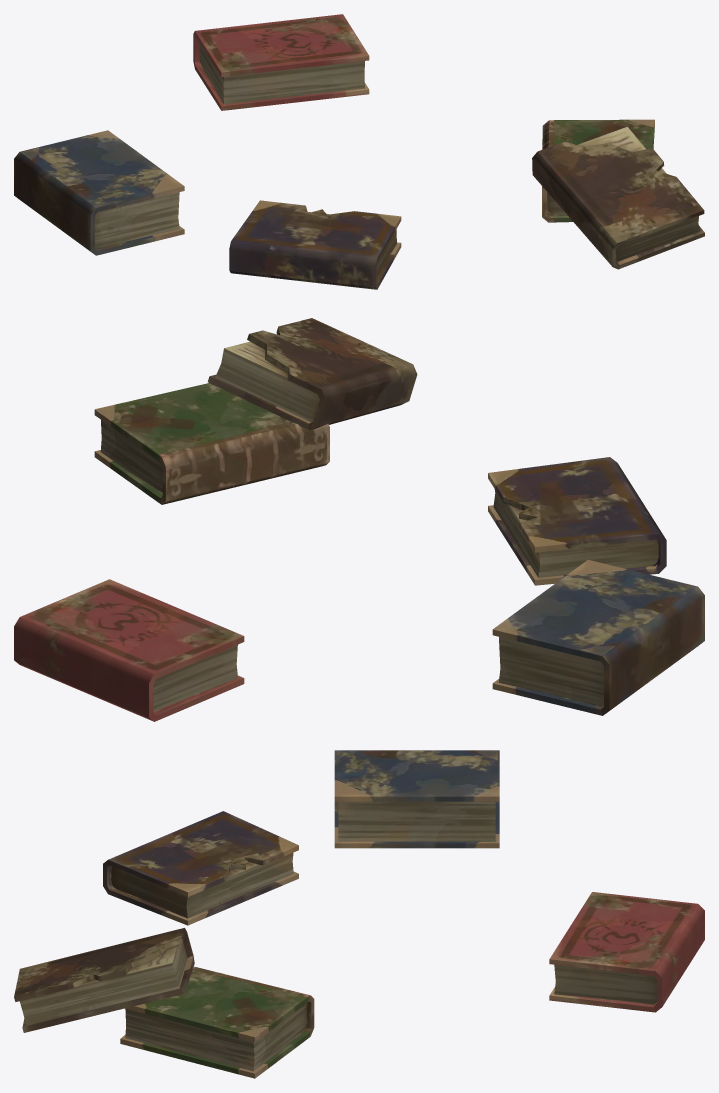
3 renders of one model, top to bottom at view 1: azimuth 30°, elevation 25°; view 2: azimuth 150°, elevation 25°; view 3: azimuth 270°, elevation 25°, orthographic. The views are drawn at different scales.
Parts seen in each view (by area): view 1: SM_DR_BookStack_06_LOD0; view 2: SM_DR_BookStack_06_LOD0; view 3: SM_DR_BookStack_06_LOD0.
Boxes of the visible parts, box(x1,y1,x2,y2) form: SM_DR_BookStack_06_LOD0: box(14, 14, 704, 289); SM_DR_BookStack_06_LOD0: box(14, 318, 704, 721); SM_DR_BookStack_06_LOD0: box(14, 750, 704, 1078).
Bounding box in the file's own units: 1.52 × 0.209 × 1.6.
Materials: 1 (1 with a texture image).
